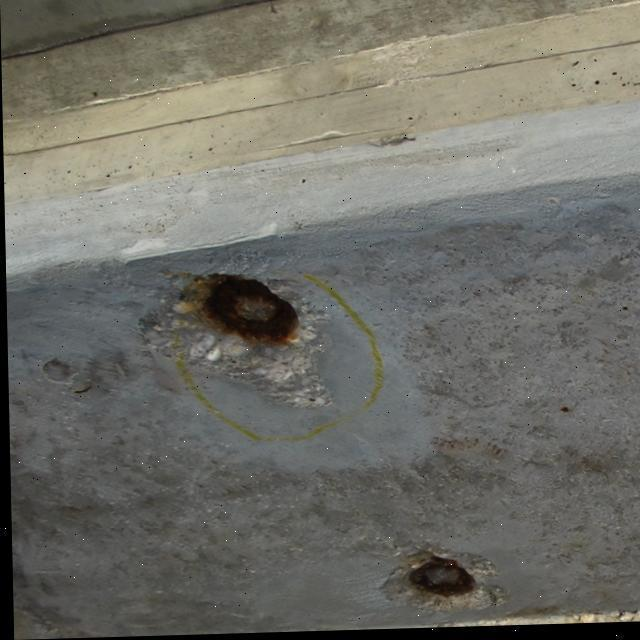D10: (142, 270, 333, 404)
